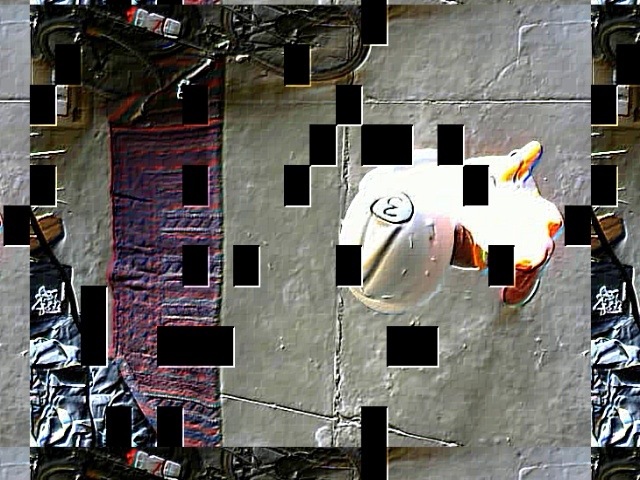three: (369, 190, 413, 223)
